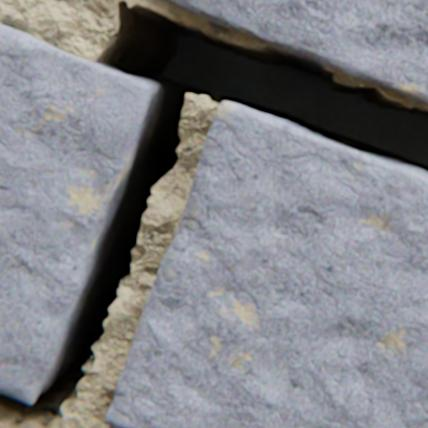brick: (106, 101, 427, 427), (0, 24, 152, 403), (166, 0, 427, 104)
crack: (0, 0, 427, 427)
